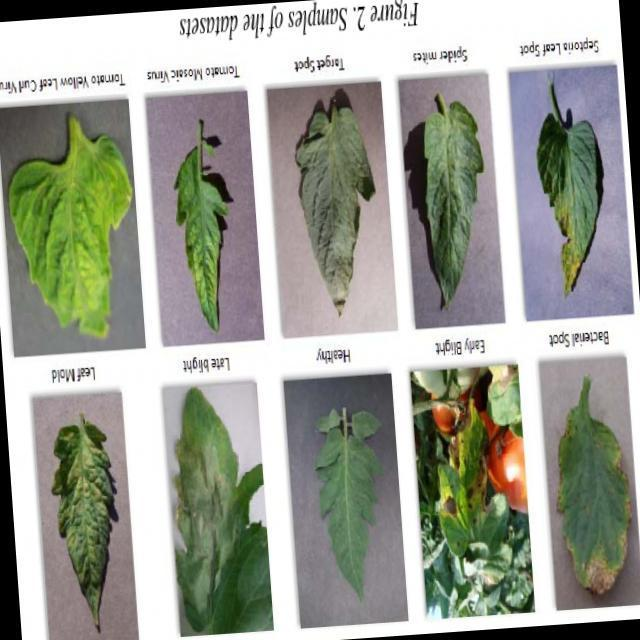Healthy Leaf: (304, 393, 389, 608)
Yellow Curl Virus: (4, 110, 142, 344)
